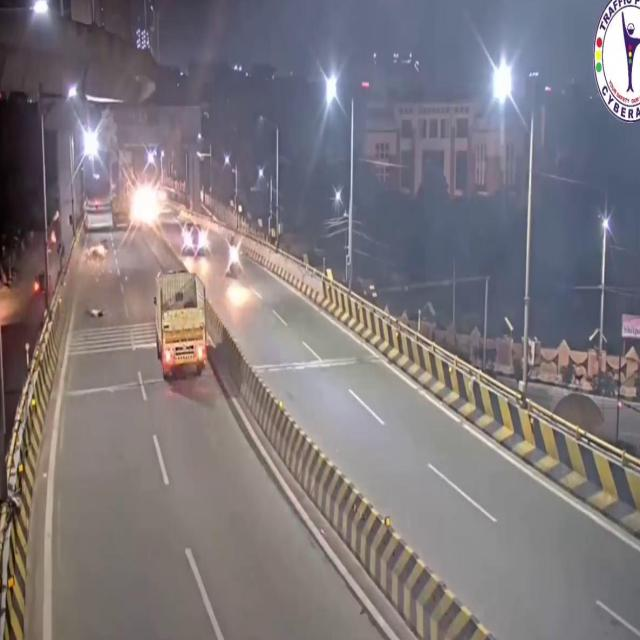accident: (81, 233, 111, 267)
